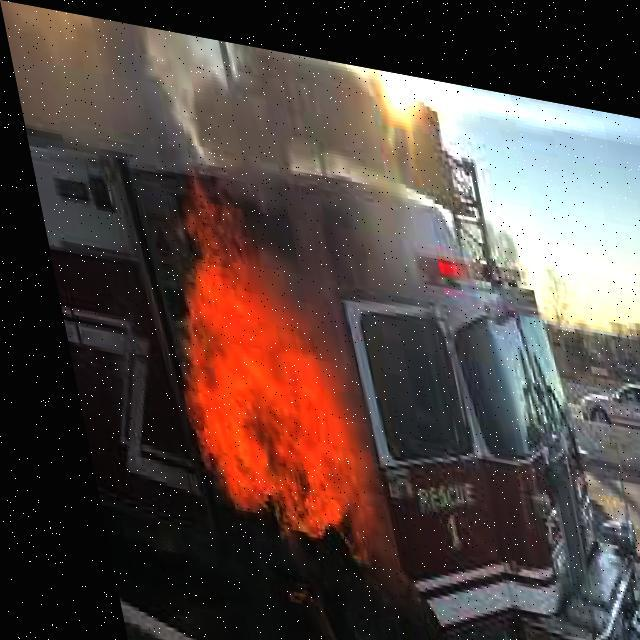Fire: (123, 184, 400, 556)
